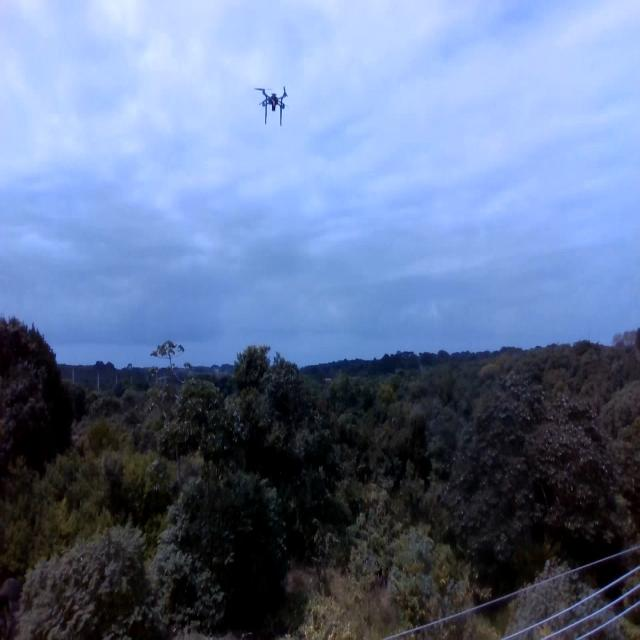-uav-: (253, 77, 294, 135)
